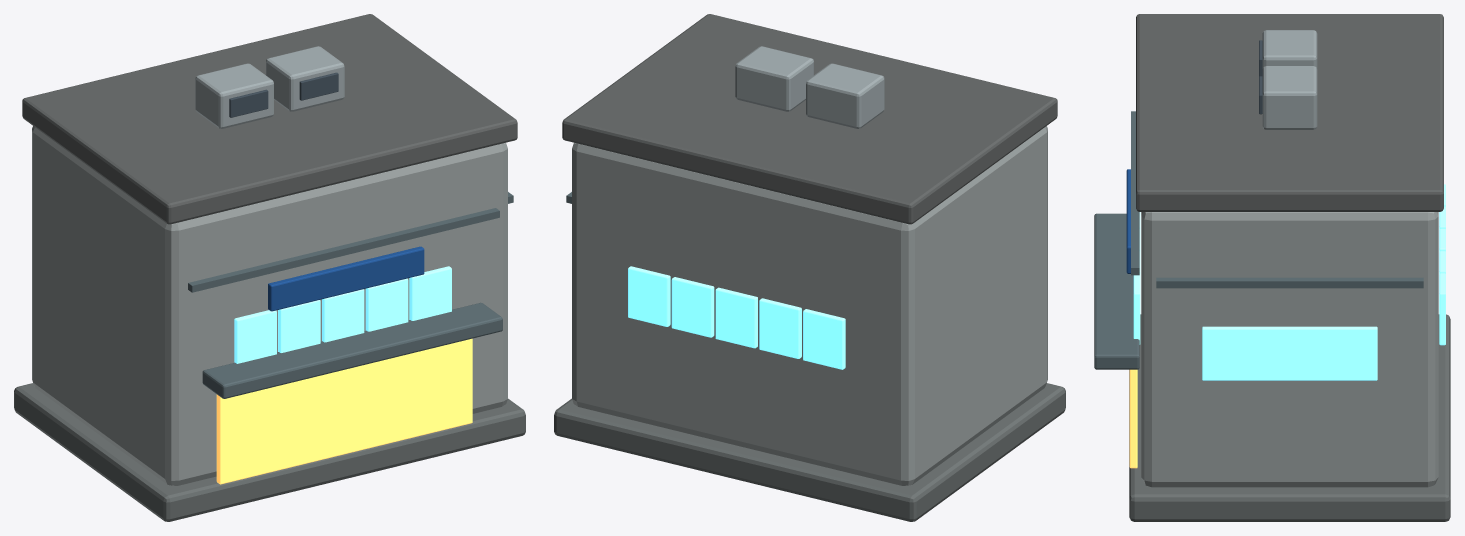
Rendered from commercial_market.glb.
3 views of the same model, side by side, from view 1: azimuth 30°, elevation 25°; view 2: azimuth 150°, elevation 25°; view 3: azimuth 270°, elevation 25° (orthographic). The views are drawn at different scales.
Visible parts, largest first — view 1: main_massing, roof_slab, storefront_glazing, foundation, storefront_awning, shop_sign, facade_band_front, hvac_unit, hvac_unit.001, front_window, front_window.004, front_window.003 (+4 smaller); view 2: main_massing, roof_slab, foundation, hvac_unit, hvac_unit.001, rear_window.003, rear_window.001, rear_window.002, rear_window, rear_window.004; view 3: main_massing, roof_slab, foundation, storefront_awning, hvac_unit.001, facade_band_side, side_window, side_window.003, side_window.002, side_window.001, hvac_unit, facade_band_front (+4 smaller).
Part boxes in pixels (left/top/right/bottom): main_massing: left=32, top=126, right=507, bottom=485; roof_slab: left=22, top=14, right=517, bottom=224; storefront_glazing: left=216, top=338, right=472, bottom=484; foundation: left=14, top=383, right=525, bottom=521; storefront_awning: left=202, top=302, right=502, bottom=398; shop_sign: left=268, top=246, right=424, bottom=311; facade_band_front: left=188, top=208, right=499, bottom=292; hvac_unit: left=195, top=63, right=273, bottom=128; hvac_unit.001: left=266, top=46, right=344, bottom=111; front_window: left=234, top=310, right=276, bottom=363; front_window.004: left=409, top=266, right=451, bottom=320; front_window.003: left=365, top=278, right=408, bottom=331; main_massing: left=572, top=126, right=1047, bottom=485; roof_slab: left=562, top=14, right=1057, bottom=224; foundation: left=554, top=383, right=1065, bottom=521; hvac_unit: left=806, top=63, right=884, bottom=128; hvac_unit.001: left=735, top=46, right=813, bottom=111; rear_window.003: left=671, top=277, right=714, bottom=337; rear_window.001: left=759, top=298, right=801, bottom=358; rear_window.002: left=715, top=287, right=757, bottom=348; rear_window: left=803, top=309, right=845, bottom=369; rear_window.004: left=628, top=266, right=670, bottom=326; main_massing: left=1141, top=212, right=1438, bottom=487; roof_slab: left=1136, top=14, right=1443, bottom=211; foundation: left=1129, top=314, right=1450, bottom=521; storefront_awning: left=1094, top=213, right=1139, bottom=369; hvac_unit.001: left=1262, top=66, right=1317, bottom=129; facade_band_side: left=1156, top=277, right=1423, bottom=288; side_window: left=1332, top=326, right=1377, bottom=380; side_window.003: left=1202, top=326, right=1246, bottom=380; side_window.002: left=1246, top=326, right=1290, bottom=380; side_window.001: left=1289, top=326, right=1333, bottom=380; hvac_unit: left=1262, top=30, right=1317, bottom=68; facade_band_front: left=1131, top=111, right=1139, bottom=275.
Bounding box in the file's own units: 1.44 × 1.35 × 1.17.
